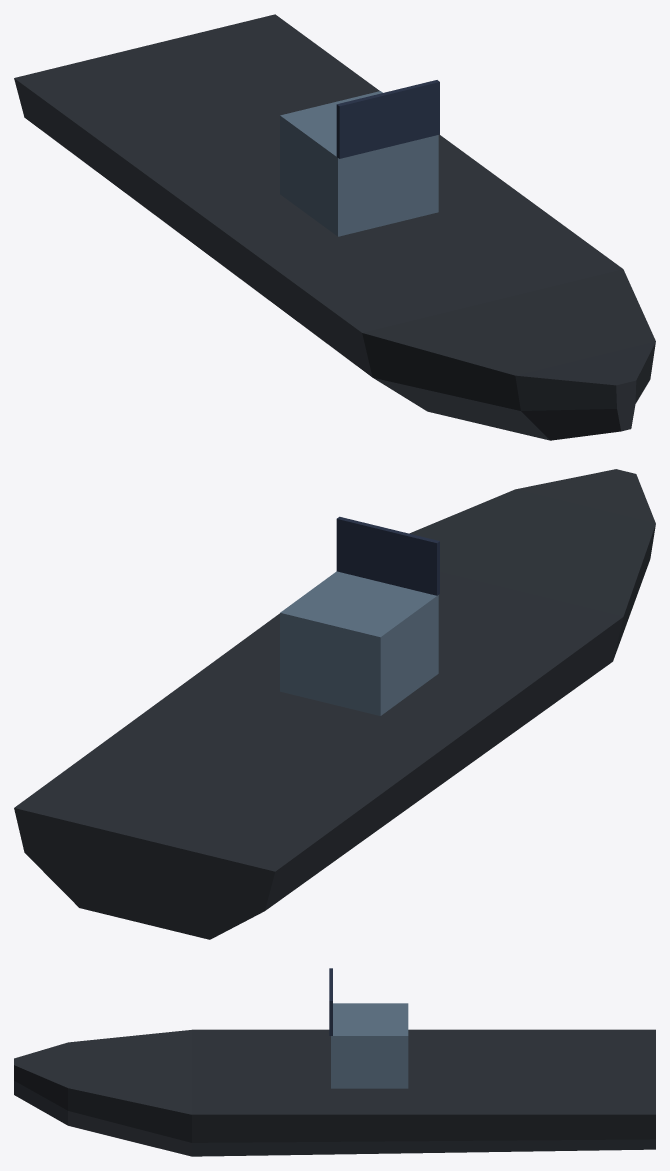
Rendered from fast_boat.glb.
3 views of the same model, one above another, from view 1: azimuth 30°, elevation 25°; view 2: azimuth 150°, elevation 25°; view 3: azimuth 270°, elevation 25° (orthographic). The views are drawn at different scales.
Visible parts, largest first — view 1: fast_boat; view 2: fast_boat; view 3: fast_boat.
Boxes of the visible parts, x1=… form: fast_boat: x1=14, y1=14, x2=655, y2=440; fast_boat: x1=14, y1=469, x2=655, y2=939; fast_boat: x1=14, y1=968, x2=655, y2=1156.
Bounding box in the file's own units: 2.6 × 2.15 × 8.3.
